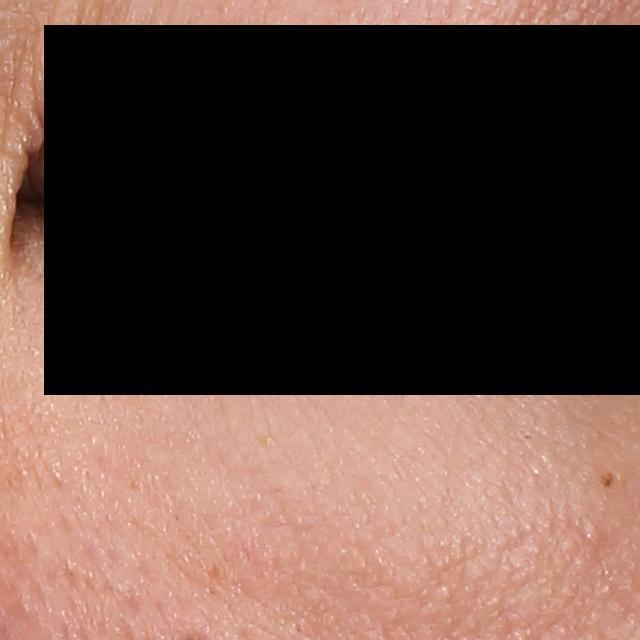nevus: (596, 471, 619, 492)
